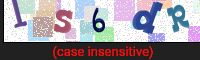6: (88, 6, 107, 36)
I: (5, 1, 35, 34)
R: (165, 1, 194, 35)
S: (49, 6, 79, 35)
d: (130, 1, 165, 38)
